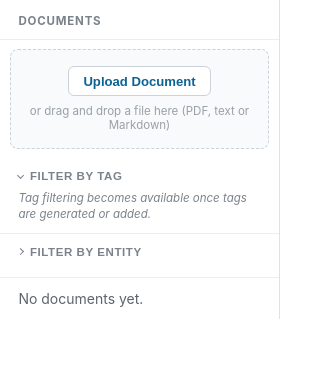
DocumentTree › keeps the entity filter visible when there are no entities
This screenshot has width=320, height=368.
Step 1. Click the button "Filter by entity" → click(80, 252), box [18,246,142,258]
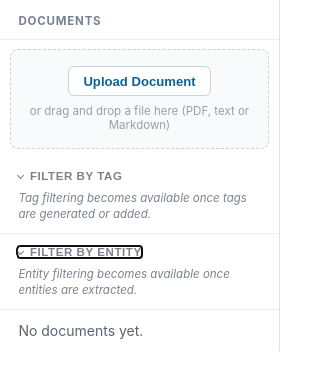
Result: the text "Entity filtering becomes available once entities are extracted." is shown at [18,266,261,298]
